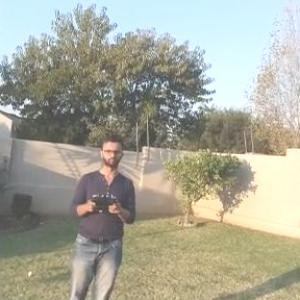follow: (66, 127, 144, 299)
